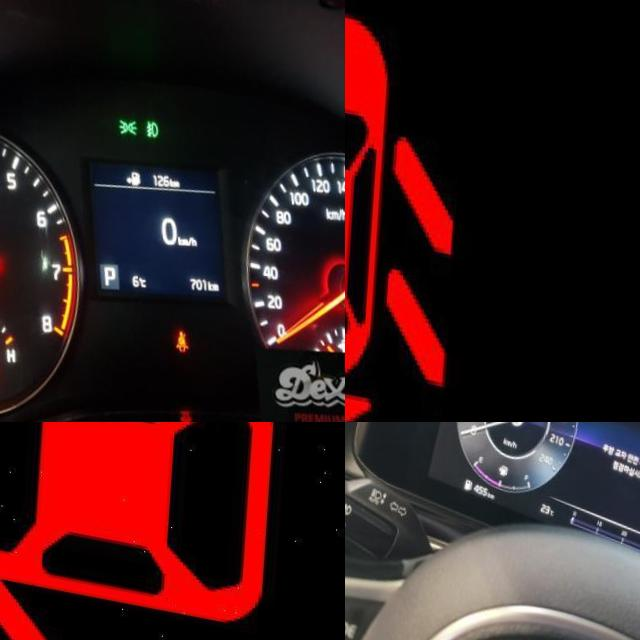FrontFogLight: (148, 105, 163, 126)
SideLamp: (120, 102, 142, 125)
